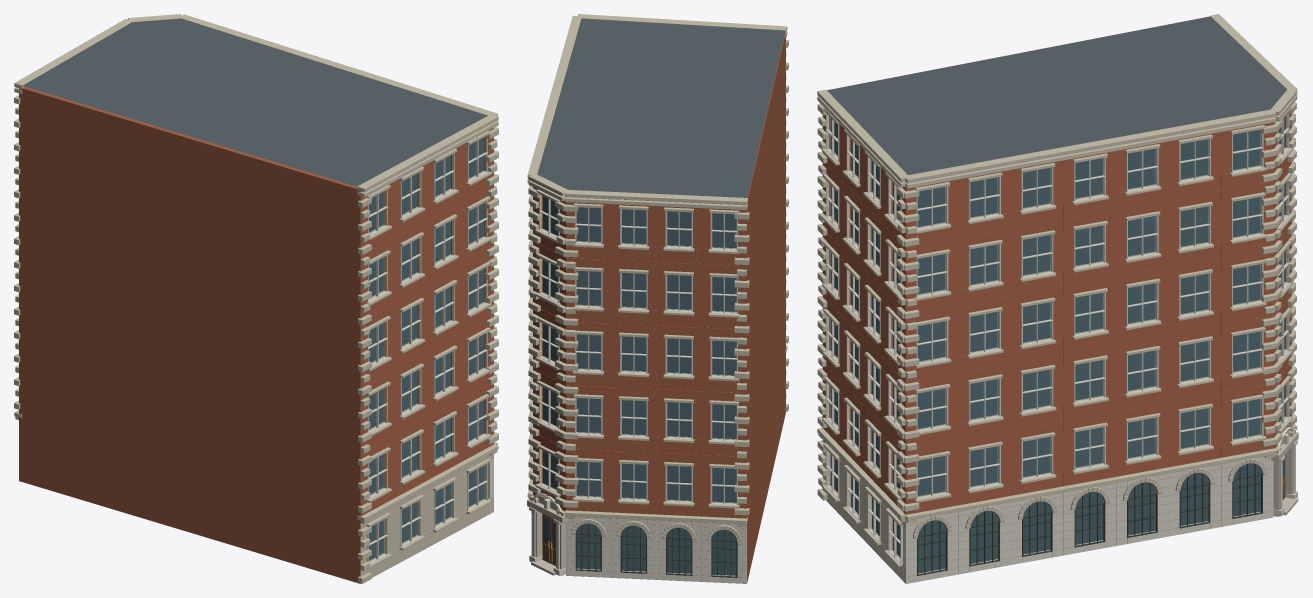
File: 51l-exterior-63f49aac7052.glb
The picture shows the model from 3 angles, left to right: view 1: azimuth 30°, elevation 25°; view 2: azimuth 150°, elevation 25°; view 3: azimuth 270°, elevation 25°; orthographic projection. The views are drawn at different scales.
Visible parts, largest first — view 1: 51L.001; view 2: 51L.001; view 3: 51L.001.
Part boxes in pixels (<box>): 51L.001: <box>14,14,498,583</box>; 51L.001: <box>527,14,788,583</box>; 51L.001: <box>817,14,1298,583</box>.
Bounding box in the file's own units: 18.38 × 20.95 × 22.48.
